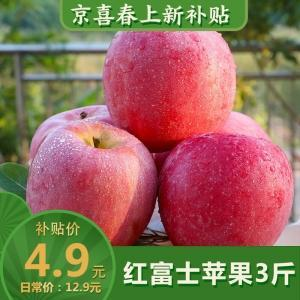apple: (27, 118, 155, 245), (155, 139, 295, 255), (104, 30, 235, 150)
